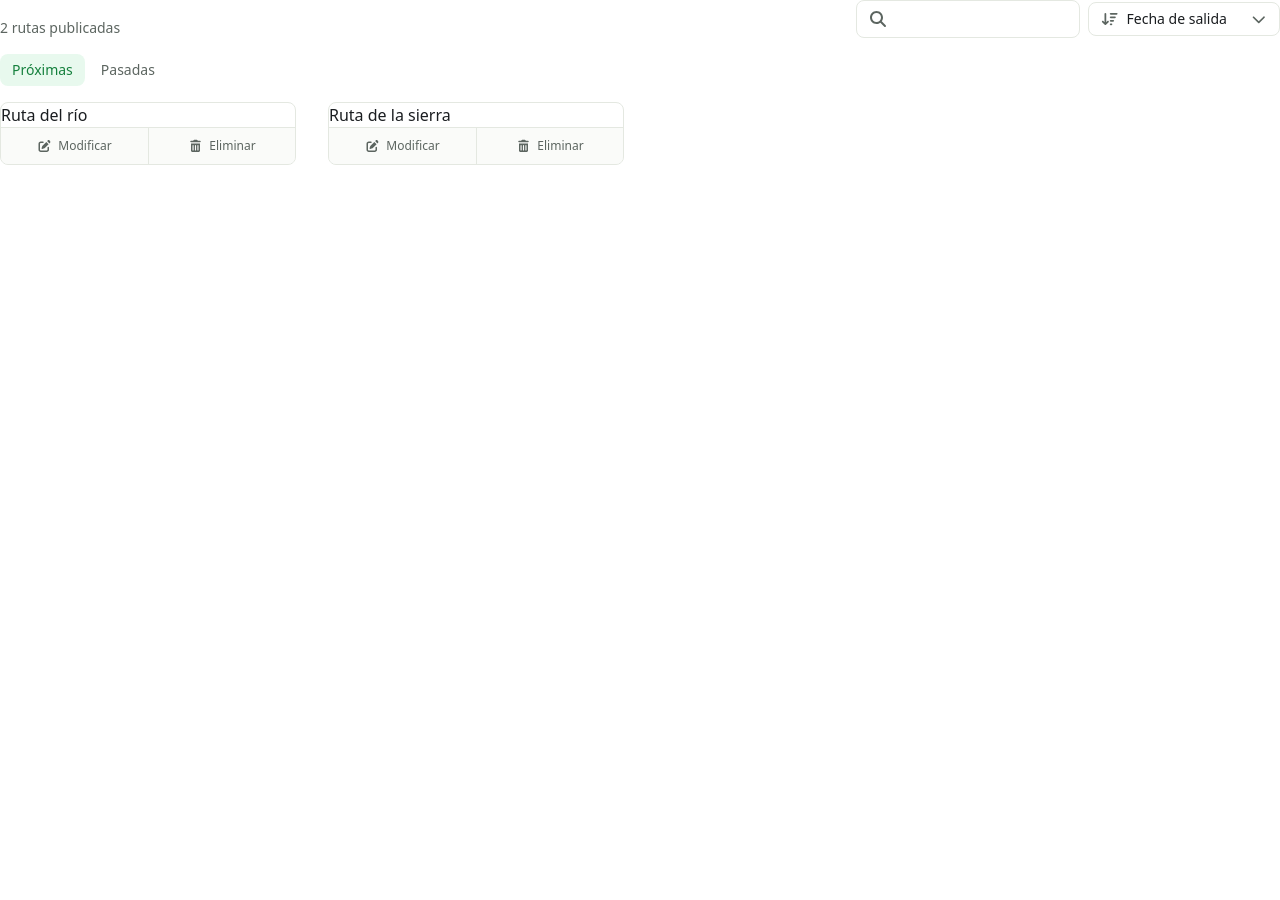
Test case: ProfileMyRidesTab › deletes a ride after confirmation
The image size is (1280, 900).
Click the button "Eliminar" below "Ruta del río": (222, 146) [148,128,295,164]
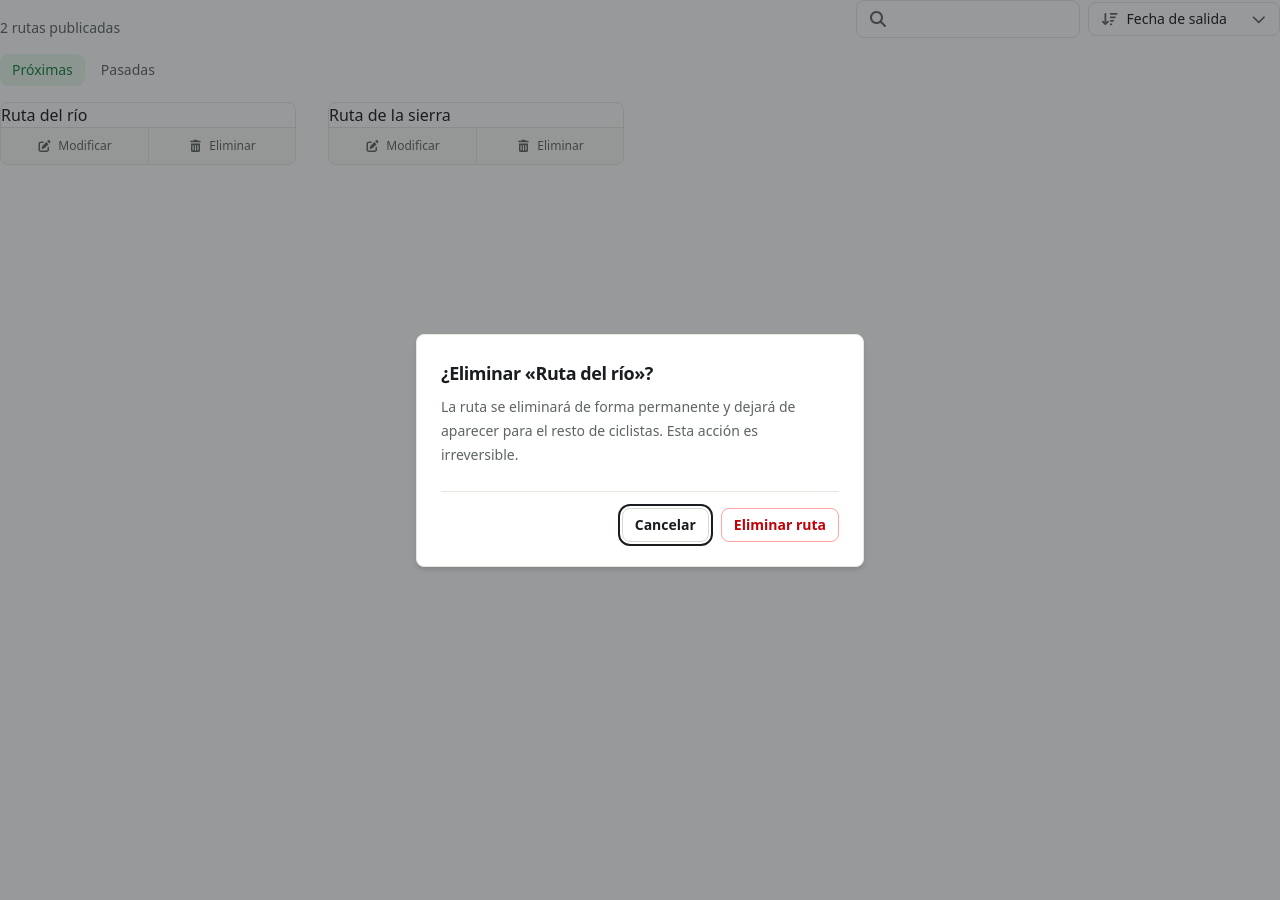
Expected: the dialog shows "¿Eliminar «Ruta del río»?", [441,360,653,384]
Expected: the button "Eliminar ruta" is shown
Click the button "Eliminar ruta": (780, 524) [721,508,839,542]
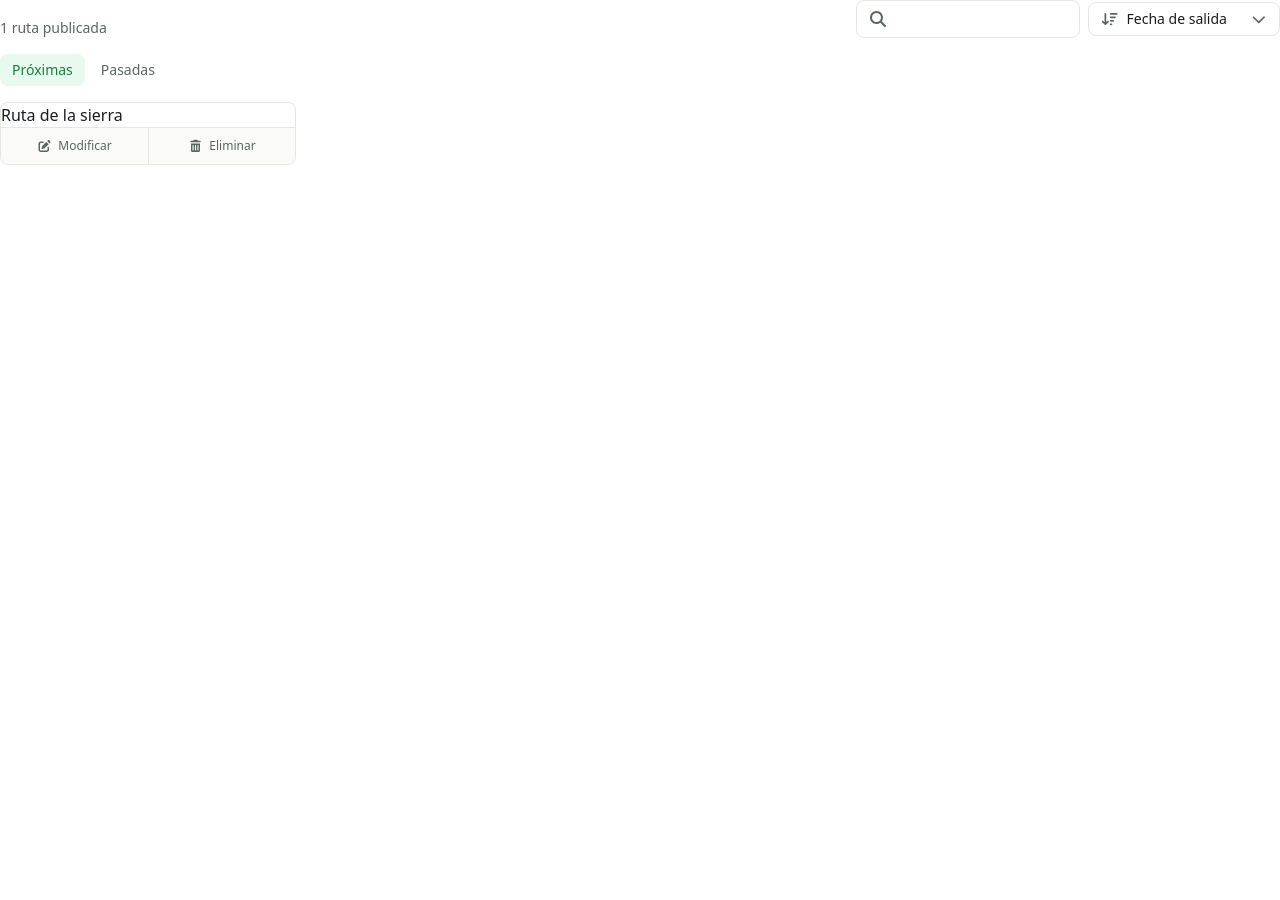
Expected: the dialog is gone
